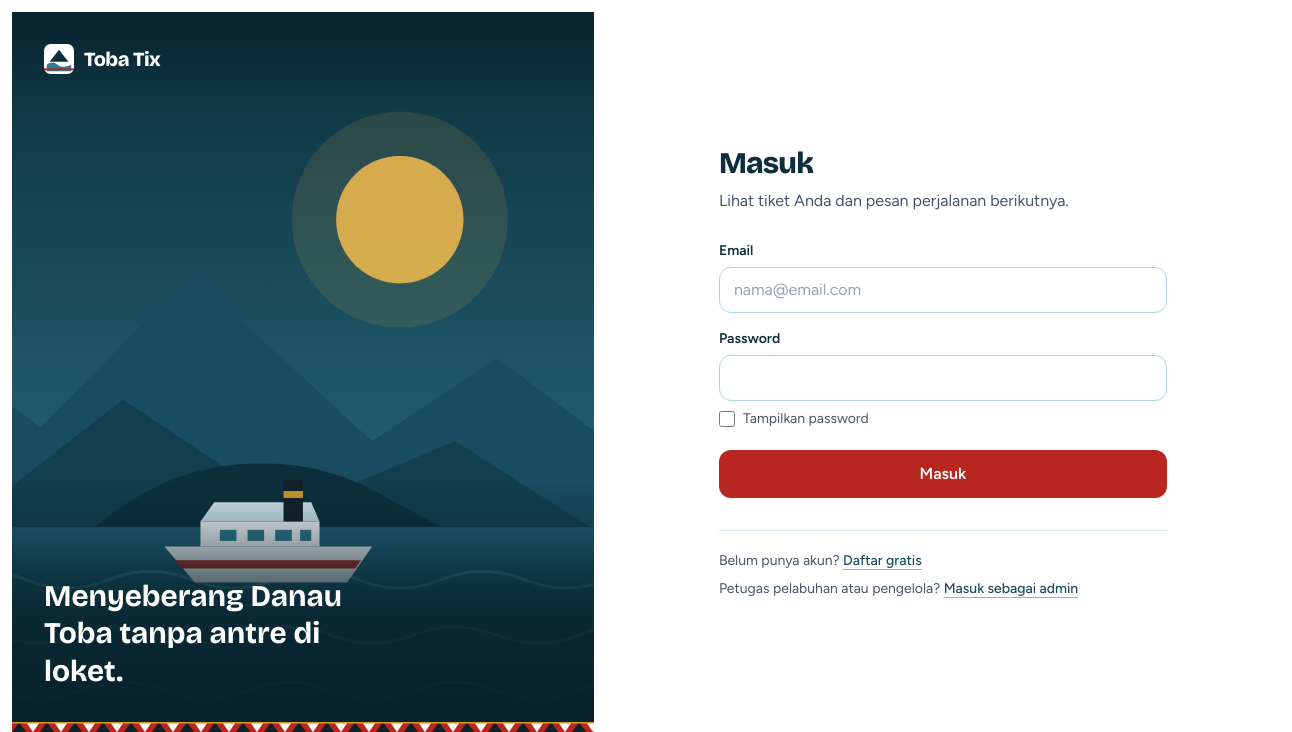
Scenario: LoginPage › validasi sisi klien: email tidak valid dan password kosong
The width and height of the screenshot is (1292, 732).
Type "bukan-email" into the field with id "username" at (943, 290), box x1=719 y1=267 x2=1167 y2=313
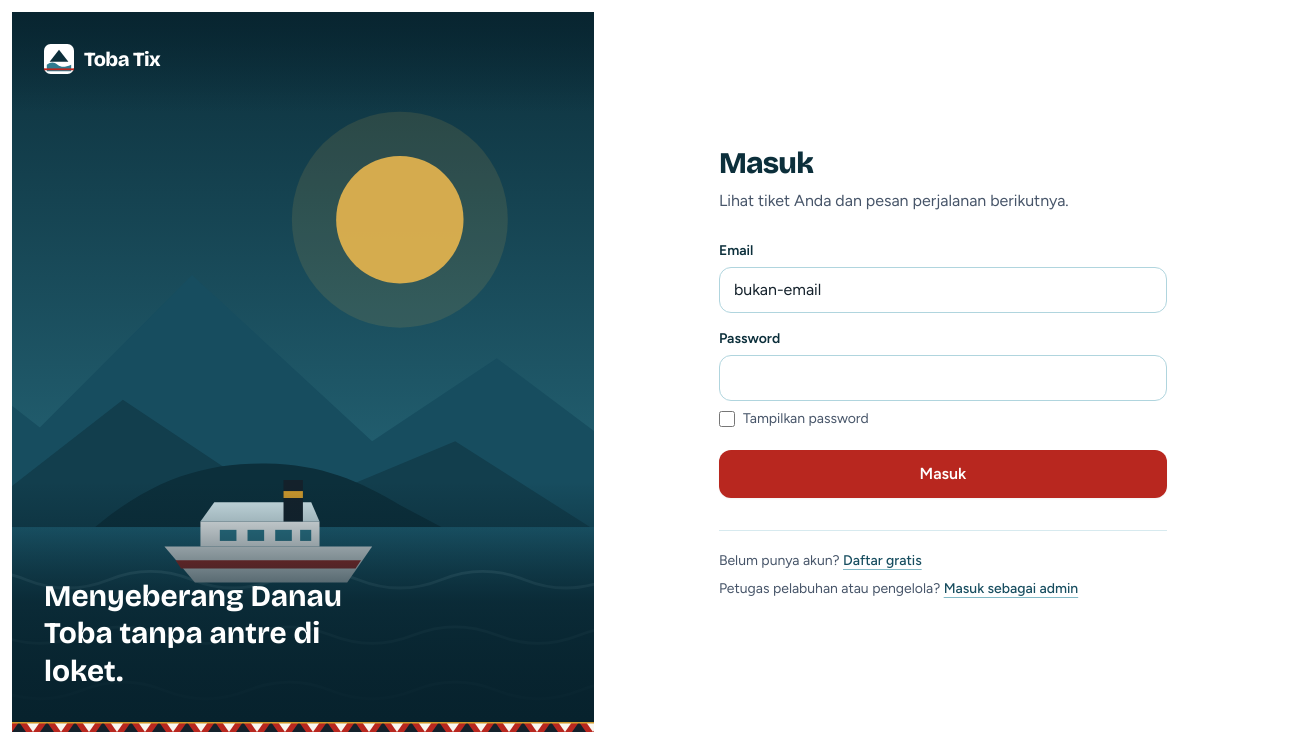
Submit the form, box x1=719 y1=241 x2=1167 y2=498
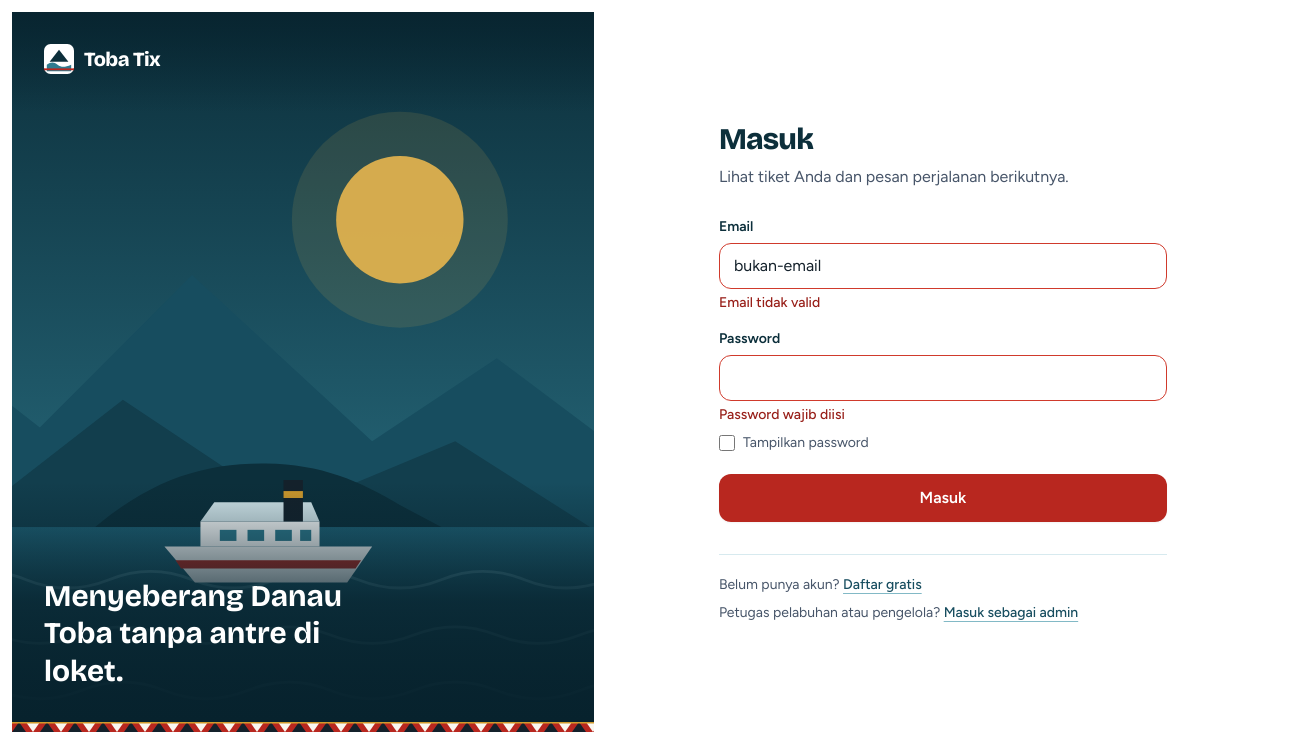
Check: the text "Email tidak valid" is shown, box x1=719 y1=294 x2=820 y2=311
Check: the text "Password wajib diisi" is shown, box x1=719 y1=406 x2=845 y2=423
